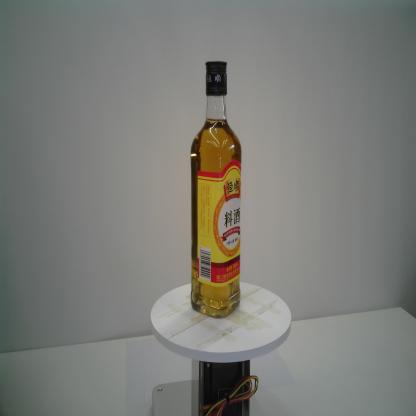Seasoner: (187, 54, 244, 322)
